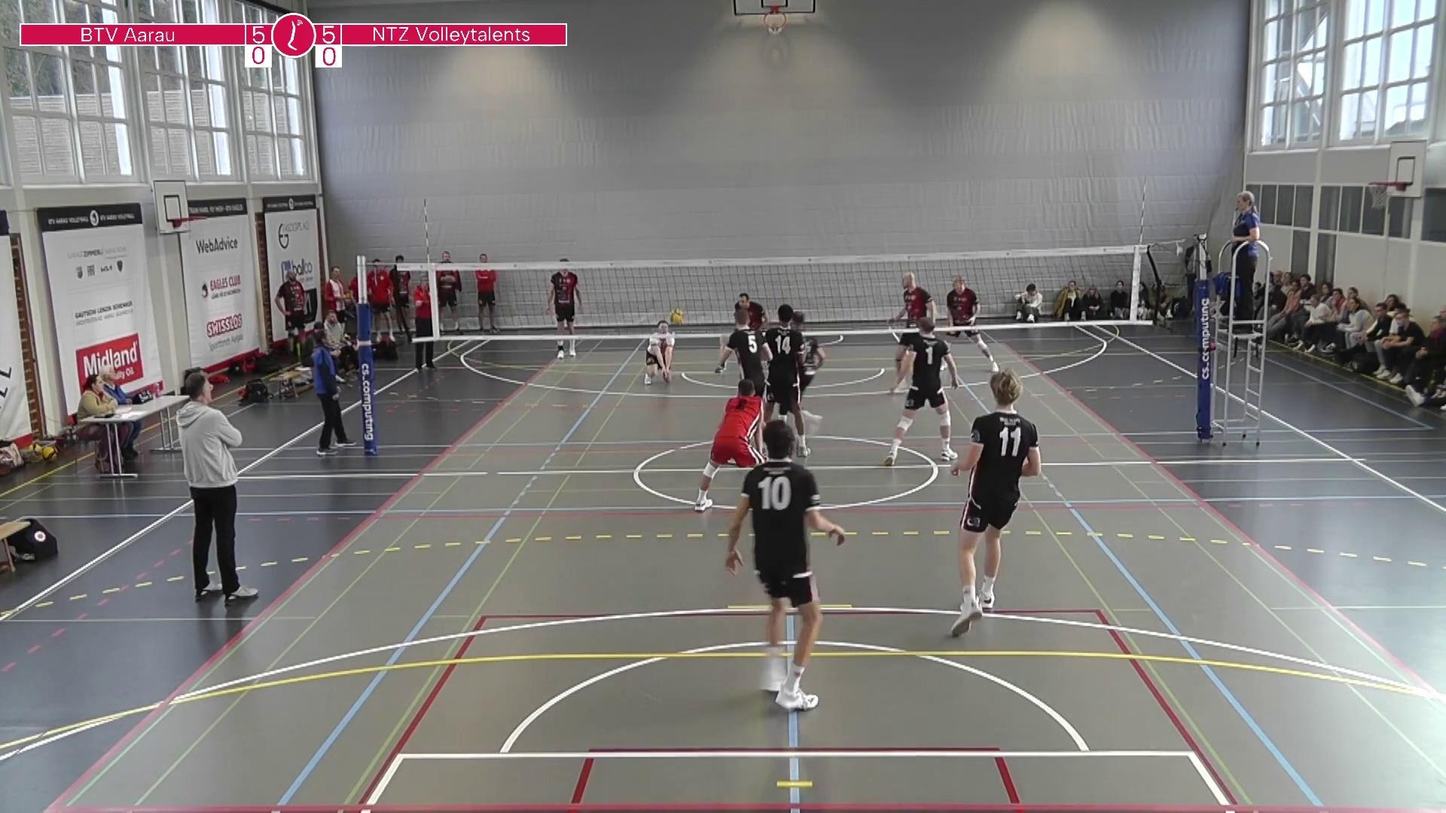Player: (726, 420, 844, 711), (949, 373, 1042, 635), (691, 374, 771, 513), (885, 318, 958, 464), (764, 304, 813, 459), (889, 273, 933, 388), (944, 273, 996, 367), (725, 305, 770, 403), (715, 293, 761, 376), (550, 259, 580, 358)
Receive: (639, 317, 680, 388)
ball: (670, 306, 688, 327)
